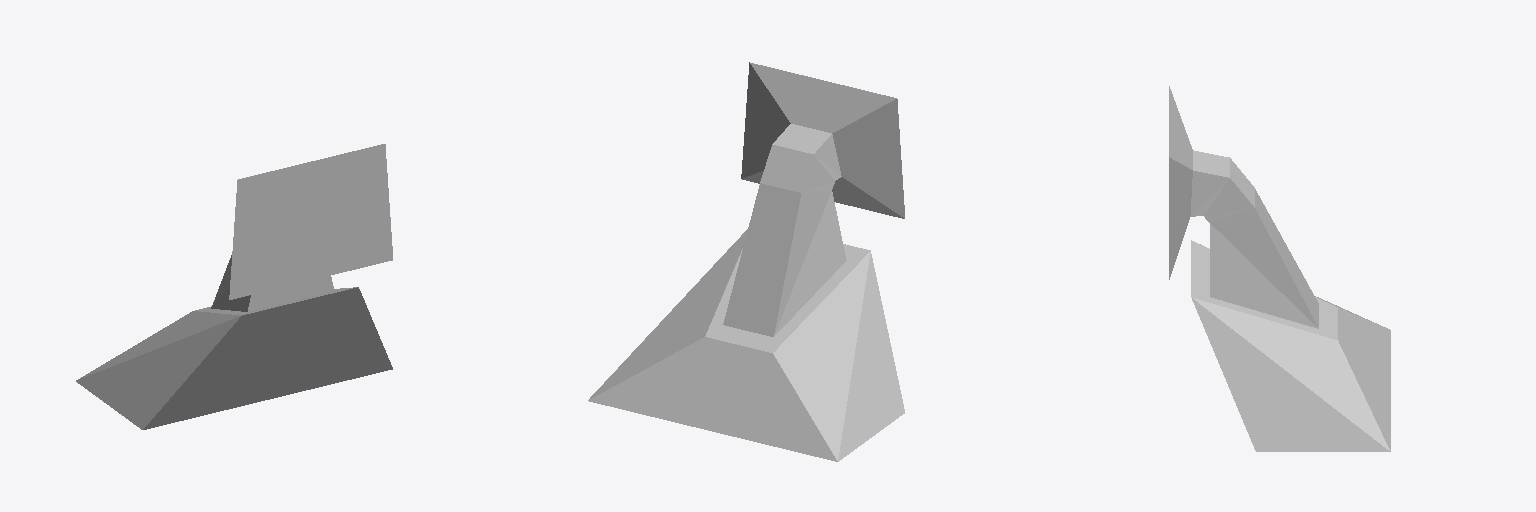
File: Raumschiff.obj
3 views of the same model, side by side, from view 1: azimuth 30°, elevation 25°; view 2: azimuth 150°, elevation 25°; view 3: azimuth 270°, elevation 25° (orthographic).
Parts seen in each view (by area): view 1: Fuss_Mesh.000, Bein_Mesh.001; view 2: Fuss_Mesh.000, Bein_Mesh.001; view 3: Fuss_Mesh.000, Bein_Mesh.001.
Boxes of the visible parts, x1=… form: Fuss_Mesh.000: x1=76, y1=287, x2=392, y2=429; Bein_Mesh.001: x1=211, y1=144, x2=392, y2=311; Fuss_Mesh.000: x1=588, y1=229, x2=904, y2=461; Bein_Mesh.001: x1=723, y1=62, x2=904, y2=336; Fuss_Mesh.000: x1=1191, y1=240, x2=1390, y2=451; Bein_Mesh.001: x1=1169, y1=86, x2=1318, y2=328.
Bounding box in the file's own units: 4.29 × 4.42 × 3.29.